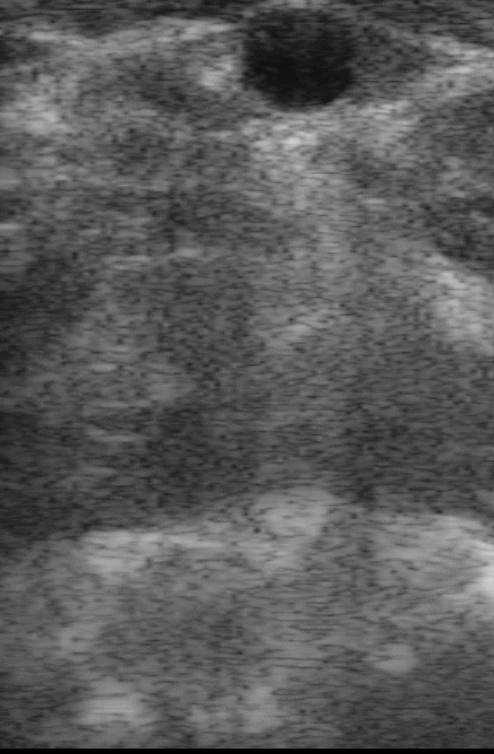veins_detect: (232, 4, 366, 116)
veins_seg: (243, 5, 356, 106)
